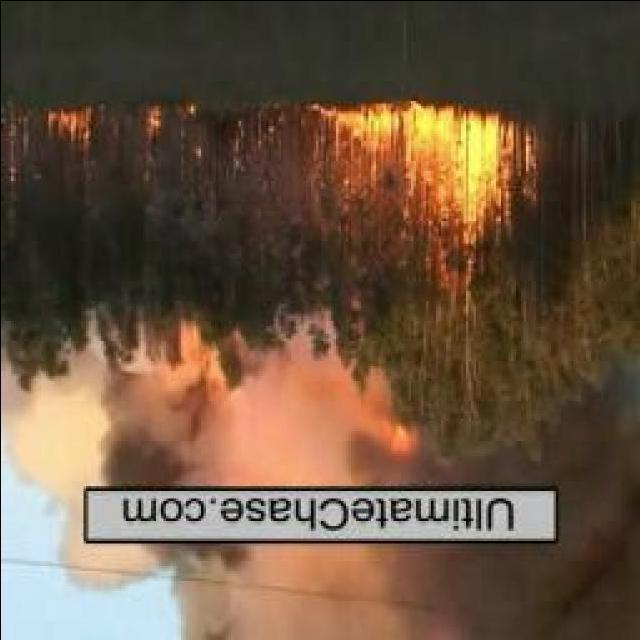Fire: (314, 103, 524, 223), (143, 103, 210, 156), (171, 344, 233, 395), (374, 416, 420, 471), (39, 107, 87, 149)
